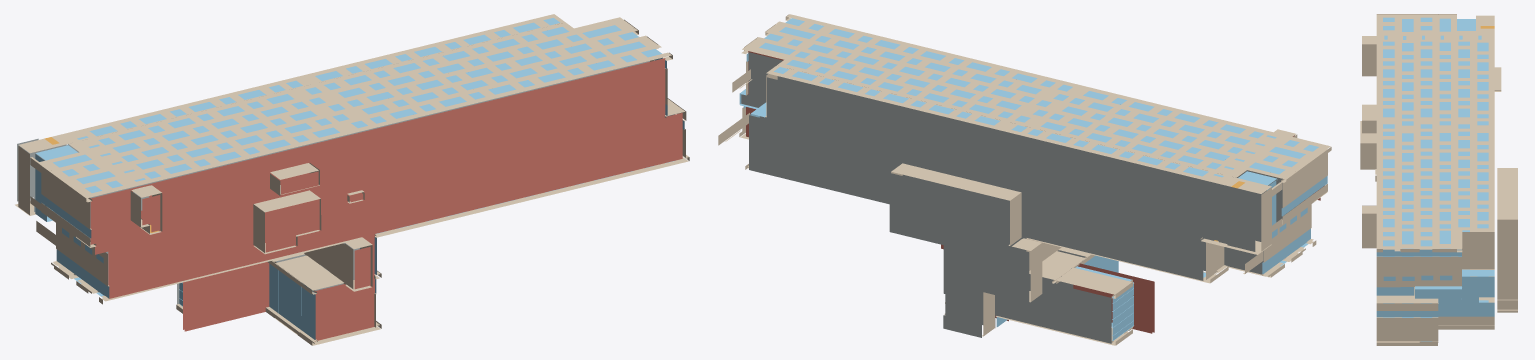
Rendered from model_cityjson_frontenac.glb.
3 renders of one model, left to right at view 1: azimuth 30°, elevation 25°; view 2: azimuth 150°, elevation 25°; view 3: azimuth 270°, elevation 25°, orthographic. The views are drawn at different scales.
Visible parts, largest first — view 1: RoofSurface, WallSurface, Window, GroundSurface; view 2: GroundSurface, WallSurface, Window, RoofSurface; view 3: WallSurface, Window.
Boxes of the visible parts, x1=… form: RoofSurface: x1=90, y1=58, x2=682, y2=341; WallSurface: x1=15, y1=14, x2=689, y2=345; Window: x1=35, y1=18, x2=684, y2=339; GroundSurface: x1=17, y1=61, x2=667, y2=313; GroundSurface: x1=741, y1=52, x2=1310, y2=343; WallSurface: x1=718, y1=14, x2=1331, y2=345; Window: x1=739, y1=18, x2=1327, y2=340; RoofSurface: x1=746, y1=51, x2=1323, y2=333; WallSurface: x1=1360, y1=14, x2=1517, y2=345; Window: x1=1376, y1=17, x2=1494, y2=341.
Bounding box in the file's own units: 86.68 × 29.79 × 24.25.
